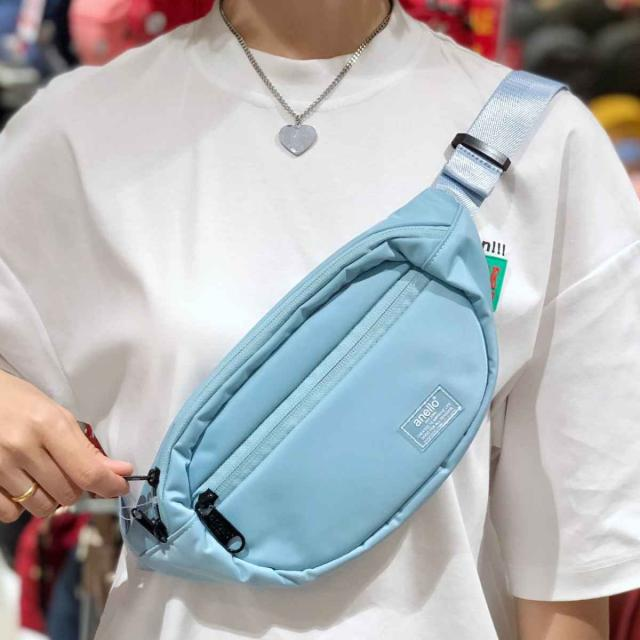handbag: (118, 76, 577, 594)
